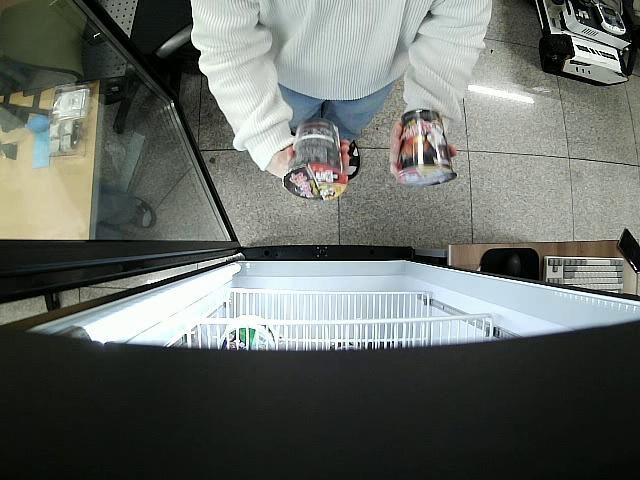08_buldak_S: (284, 116, 347, 201), (396, 108, 458, 190)
